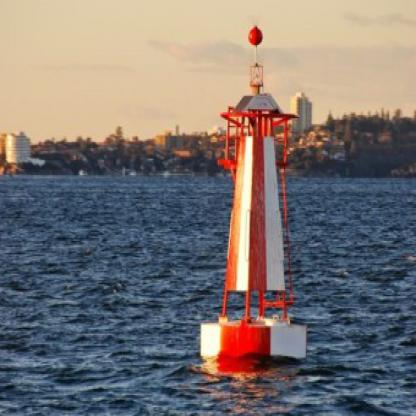buoy: (187, 14, 316, 380)
